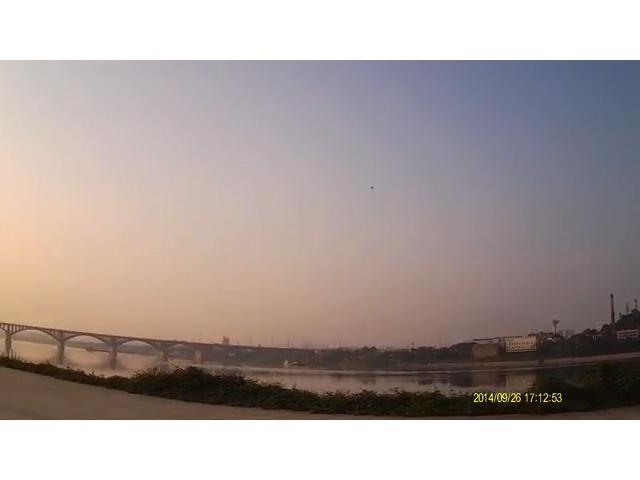Anti-Drone: (362, 181, 382, 196)
